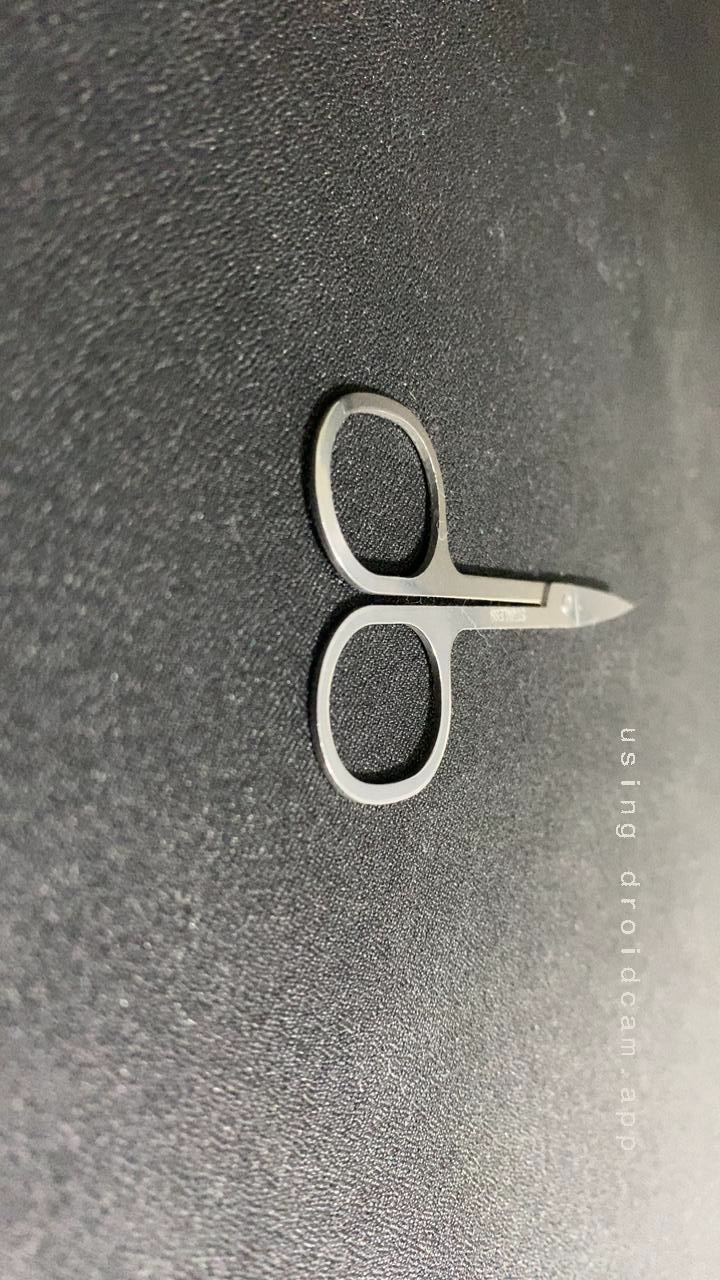scissor: (252, 373, 475, 604)
